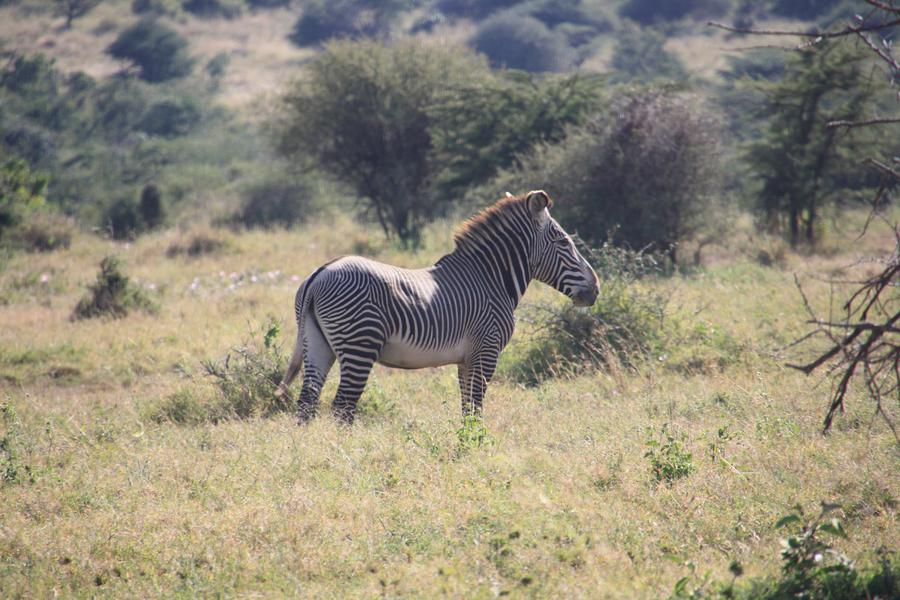zebra_grevys: (305, 250, 505, 355)
